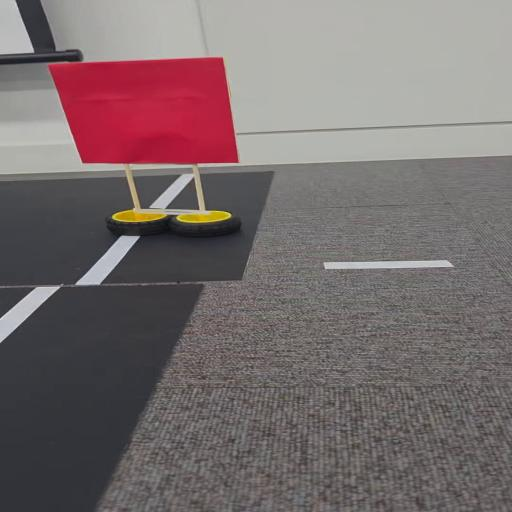Sign_A: (43, 51, 265, 240)
